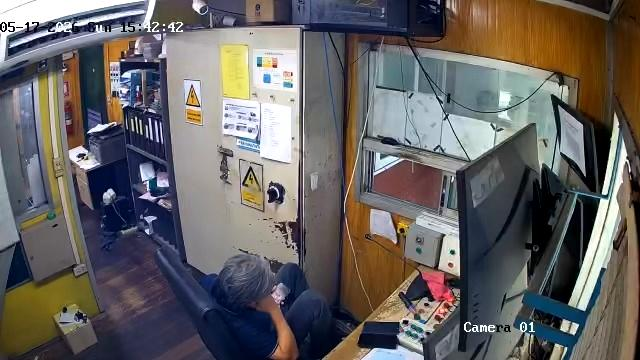Head: (216, 253, 270, 306)
People: (199, 254, 341, 360)
Phone: (358, 333, 398, 350), (272, 280, 292, 305)
